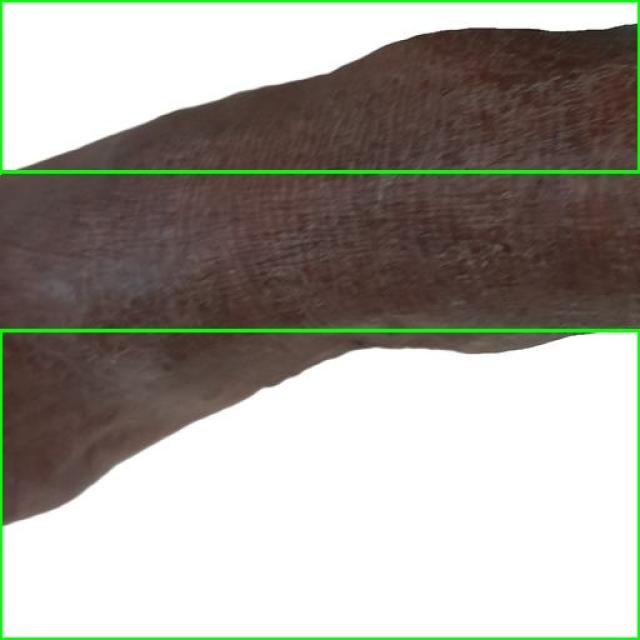Contact Dermatitis: (0, 330, 639, 639), (0, 0, 639, 171)
